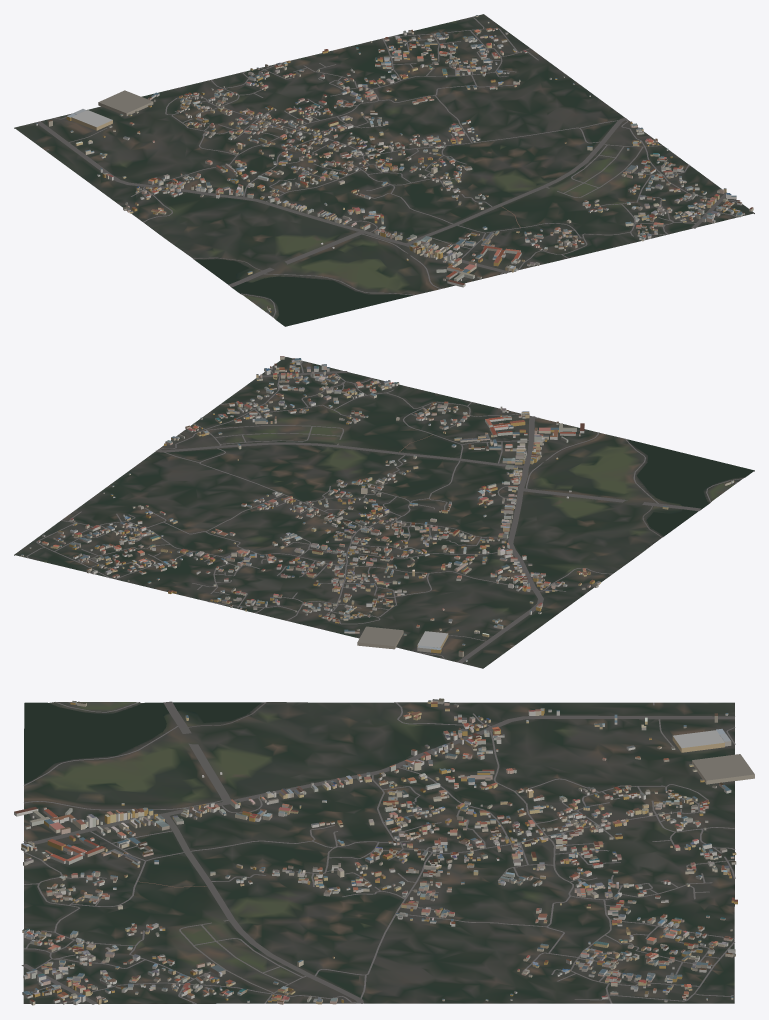
The picture shows the model from 3 angles, top to bottom: view 1: azimuth 30°, elevation 25°; view 2: azimuth 150°, elevation 25°; view 3: azimuth 270°, elevation 25°; orthographic projection. The views are drawn at different scales.
Parts seen in each view (by area): view 1: ground, buildings, roads, water; view 2: ground, buildings, roads, water; view 3: ground, buildings, roads, water.
Part boxes in pixels (box(x1,y1,x2,y2)): ground: box(14, 14, 754, 326); buildings: box(36, 15, 753, 312); roads: box(35, 17, 737, 317); water: box(195, 259, 411, 326); ground: box(14, 357, 754, 668); buildings: box(21, 356, 734, 661); roads: box(26, 361, 742, 663); water: box(627, 439, 753, 535); ground: box(23, 702, 734, 1003); buildings: box(14, 698, 754, 1005); roads: box(21, 701, 735, 1004); water: box(24, 702, 261, 783).
Bounding box in the file's own units: 1413 × 25.75 × 1461.
